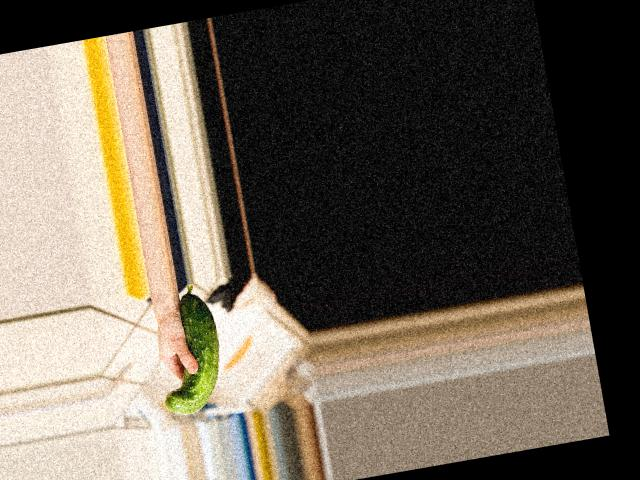cucumber: (146, 281, 231, 418)
